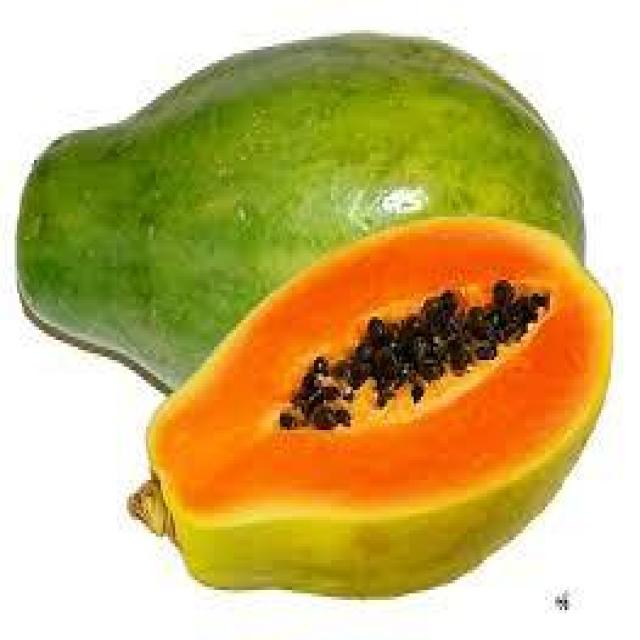organic: (12, 33, 616, 603)
